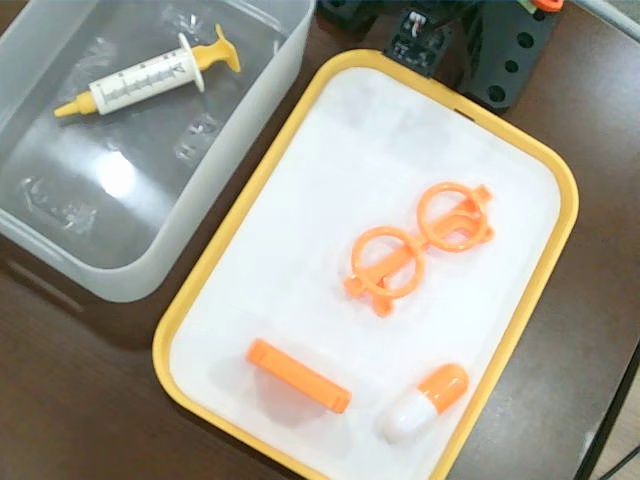pill: (381, 361, 471, 447)
syringe: (53, 22, 244, 123)
